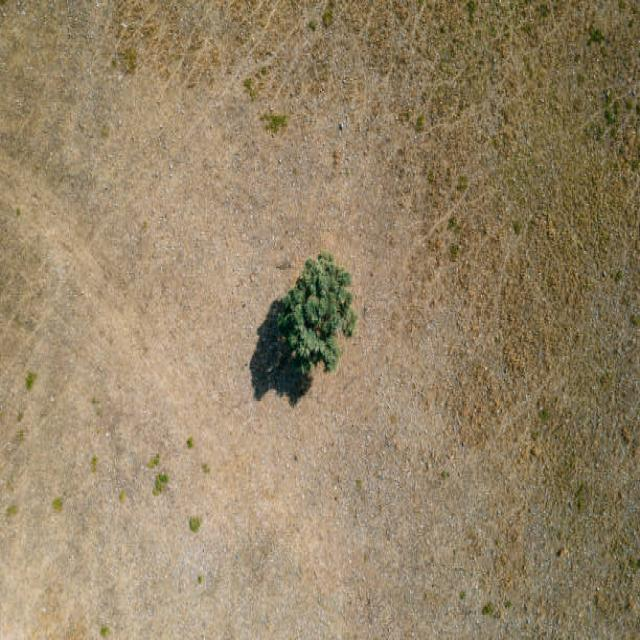Tree: (250, 243, 360, 407)
